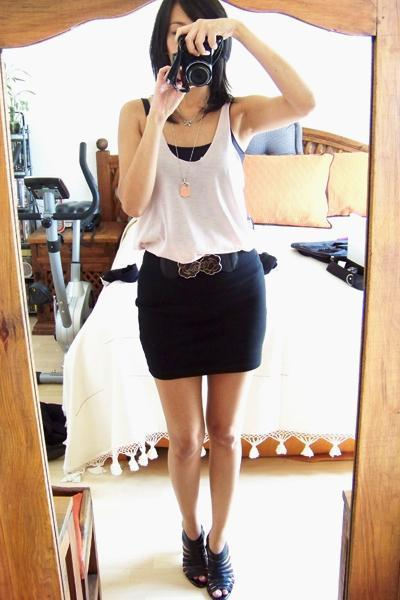shirt: (139, 105, 252, 265)
shoe: (183, 540, 233, 599)
skirt: (135, 253, 276, 383)
